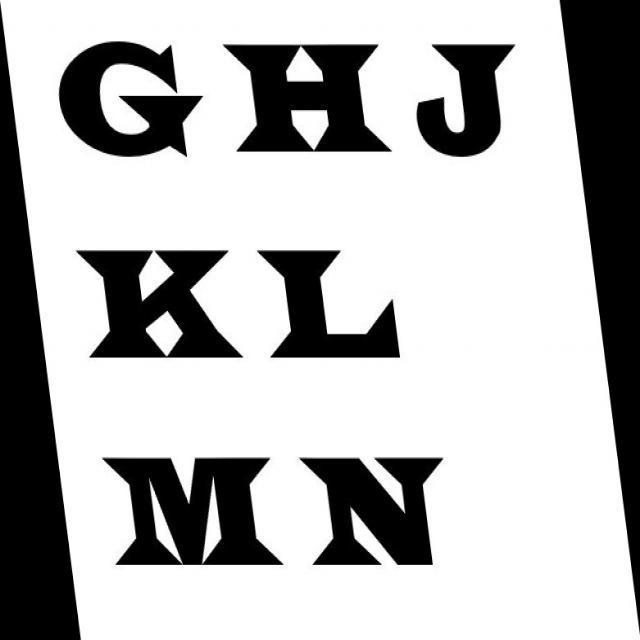G: (51, 31, 206, 171)
H: (223, 32, 399, 165)
J: (413, 31, 527, 167)
K: (64, 233, 250, 370)
L: (255, 240, 410, 367)
M: (97, 446, 291, 576)
N: (297, 445, 447, 578)
